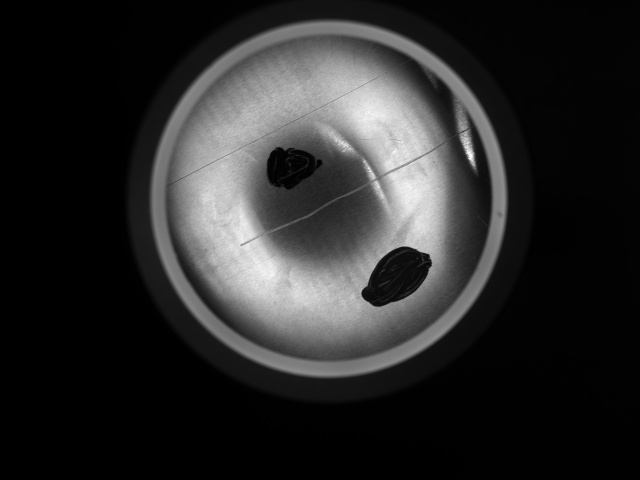ca_shang: (161, 62, 412, 188), (238, 124, 475, 246)
zang_wu: (361, 244, 434, 308), (266, 147, 323, 192)
